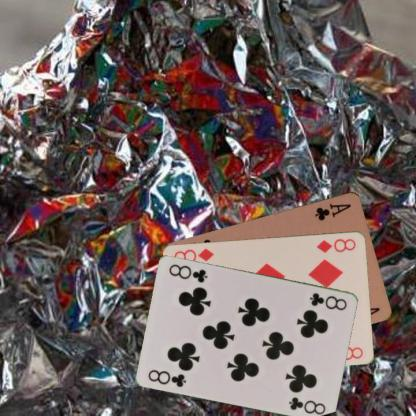8c: (146, 366, 189, 388), (307, 290, 348, 311)
8d: (314, 235, 358, 254)
Ac: (312, 200, 352, 222)
